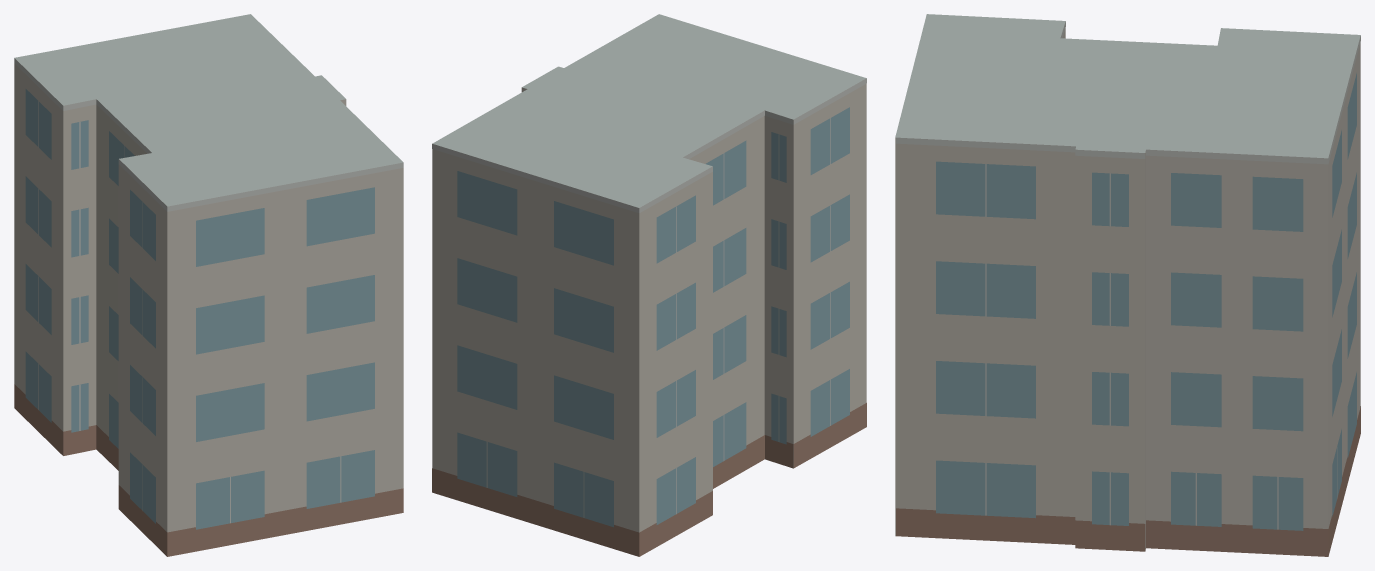
The model's file is survey-upis-32616095.glb.
3 views of the same model, side by side, from view 1: azimuth 30°, elevation 25°; view 2: azimuth 150°, elevation 25°; view 3: azimuth 270°, elevation 25° (orthographic). The views are drawn at different scales.
Visible parts, largest first — view 1: survey-upis-32616095.tmp; view 2: survey-upis-32616095.tmp; view 3: survey-upis-32616095.tmp.
Part boxes in pixels (x1=…): survey-upis-32616095.tmp: x1=14, y1=14, x2=403, y2=556; survey-upis-32616095.tmp: x1=432, y1=14, x2=866, y2=556; survey-upis-32616095.tmp: x1=895, y1=14, x2=1360, y2=556.
Size of the model in its own units: 12.51 by 16.1 by 17.06.
